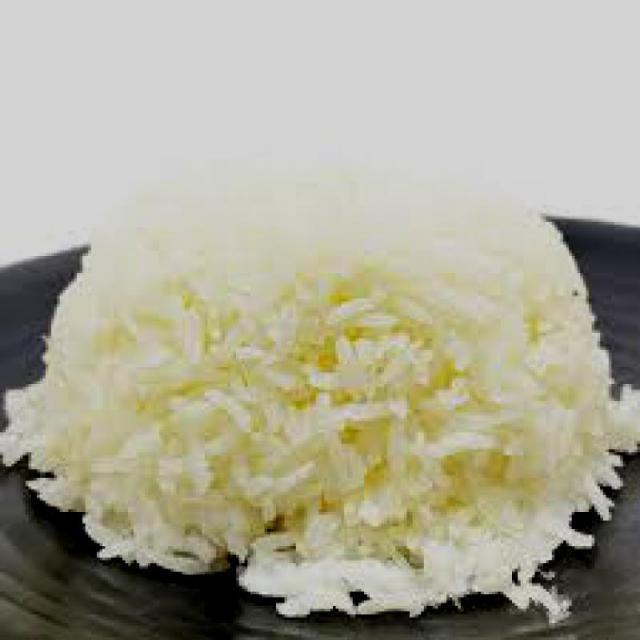rice: (3, 177, 638, 621)
